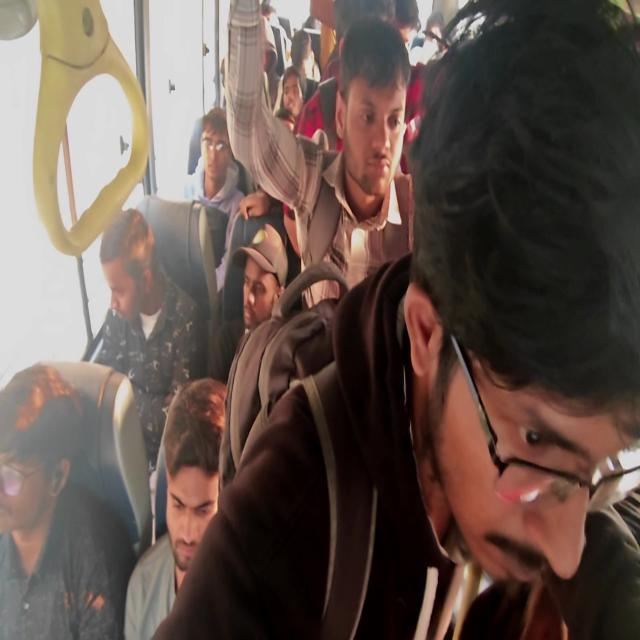person: (429, 168, 640, 580), (154, 413, 258, 567), (0, 361, 74, 518), (336, 36, 402, 192), (99, 222, 168, 335), (242, 235, 292, 326), (196, 112, 238, 182), (252, 15, 285, 88), (386, 0, 419, 44), (281, 70, 304, 127), (291, 25, 318, 59), (424, 20, 444, 65), (253, 0, 280, 29)
